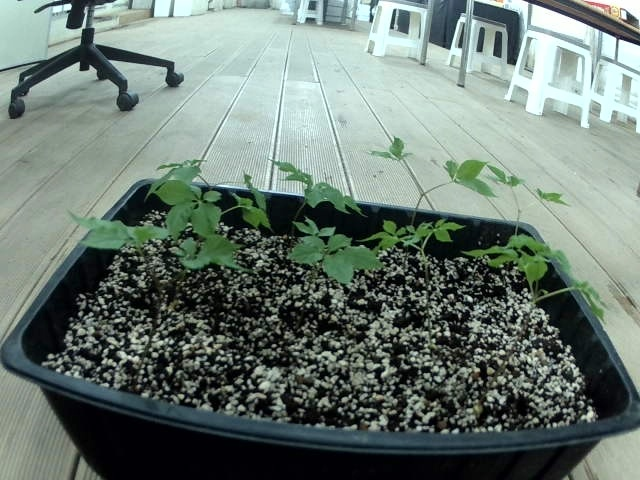수확기: (478, 227, 574, 303), (272, 231, 380, 298), (67, 207, 172, 263), (369, 214, 447, 283), (142, 179, 225, 236), (158, 230, 235, 286), (299, 172, 360, 222), (431, 146, 490, 195), (216, 192, 274, 238), (367, 133, 429, 176), (227, 158, 277, 211), (284, 208, 345, 251), (259, 150, 323, 187), (519, 177, 571, 215), (419, 214, 470, 252), (480, 151, 527, 192), (155, 152, 215, 183), (567, 274, 607, 306)
